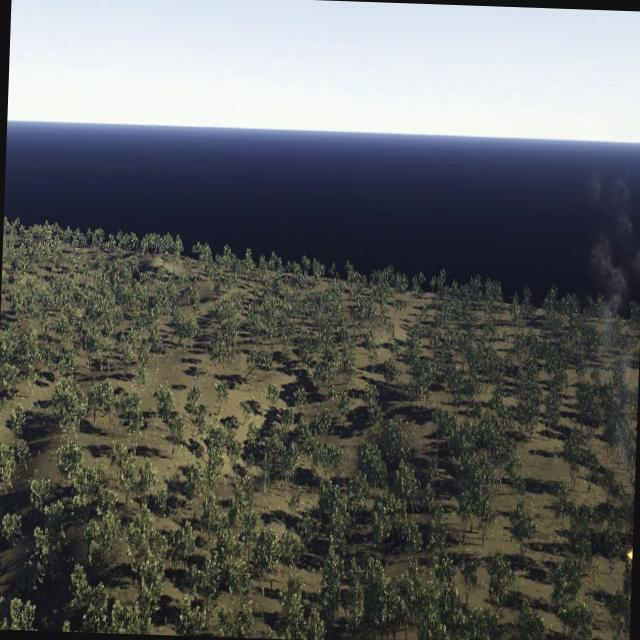fire: (626, 546, 632, 560)
smoke: (576, 169, 640, 383)
